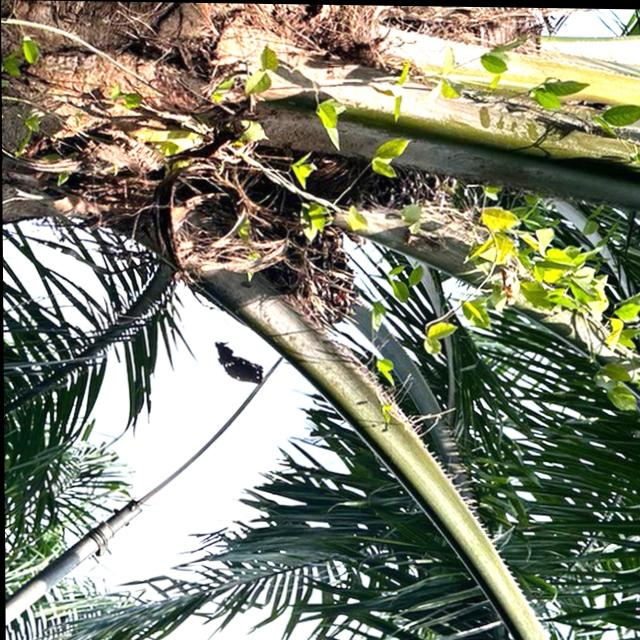almost: (237, 200, 367, 332), (281, 143, 468, 222)
